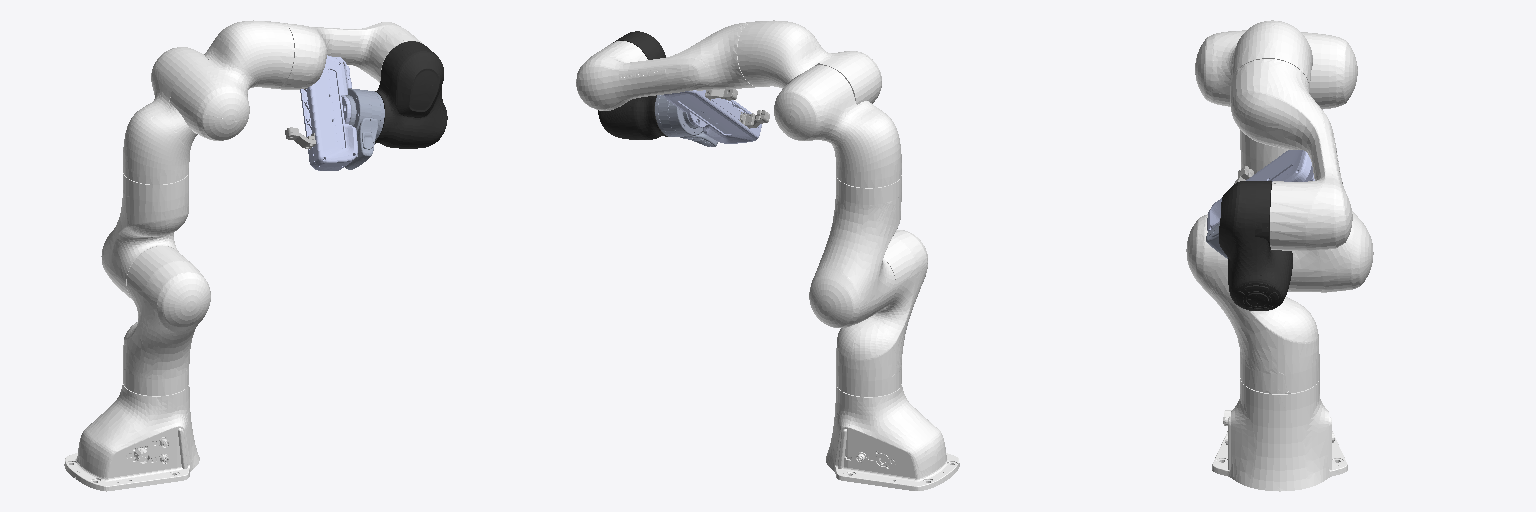
The robot description file, URDF, robot "Franka_Research_3_v2":
<?xml version="1.0" encoding="utf-8"?>
<!-- This URDF was automatically created by SolidWorks to URDF Exporter! Originally created by [author] ([email redacted]) 
     Commit Version: 1.6.0-4-g7f85cfe  Build Version: 1.6.7995.38578
     For more information, please see http://wiki.ros.org/sw_urdf_exporter -->
<robot
  name="Franka_Research_3_v2">
  <link
    name="franka_robot">
    <inertial>
      <origin
        xyz="-0.0257215075963844 -0.000140726343923872 0.0583238301229975"
        rpy="0 0 0" />
      <mass
        value="2.53458537093423" />
      <inertia
        ixx="0.00669301731863591"
        ixy="-1.22000775551122E-05"
        ixz="-0.00112343988960679"
        iyy="0.00948254598749087"
        iyz="-3.09365040647767E-06"
        izz="0.00886795022977279" />
    </inertial>
    <visual>
      <origin
        xyz="0 0 0"
        rpy="0 0 0" />
      <geometry>
        <mesh
          filename="package://Franka_Research_3_v2/meshes/franka_robot.STL" />
      </geometry>
      <material
        name="">
        <color
          rgba="1 1 1 1" />
      </material>
    </visual>
    <collision>
      <origin
        xyz="0 0 0"
        rpy="0 0 0" />
      <geometry>
        <mesh
          filename="package://Franka_Research_3_v2/meshes/franka_robot.STL" />
      </geometry>
    </collision>
  </link>
  <link
    name="Link_Shoulder_01">
    <inertial>
      <origin
        xyz="-0.00213456226793228 -0.034551608748078 -0.0672460472161224"
        rpy="0 0 0" />
      <mass
        value="2.41043967630229" />
      <inertia
        ixx="0.0156403919190568"
        ixy="-0.000124926150924449"
        ixz="0.000251312691144325"
        iyy="0.0136252179718"
        iyz="0.00407058837657766"
        izz="0.00564872640101832" />
    </inertial>
    <visual>
      <origin
        xyz="0 0 0"
        rpy="0 0 0" />
      <geometry>
        <mesh
          filename="package://Franka_Research_3_v2/meshes/Link_Shoulder_01.STL" />
      </geometry>
      <material
        name="">
        <color
          rgba="1 1 1 1" />
      </material>
    </visual>
    <collision>
      <origin
        xyz="0 0 0"
        rpy="0 0 0" />
      <geometry>
        <mesh
          filename="package://Franka_Research_3_v2/meshes/Link_Shoulder_01.STL" />
      </geometry>
    </collision>
  </link>
  <joint
    name="Joint_Shoulder_01"
    type="revolute">
    <origin
      xyz="3.06592108877928E-05 0.000499059153678049 0.333026749986188"
      rpy="0 0 0" />
    <parent
      link="franka_robot" />
    <child
      link="Link_Shoulder_01" />
    <axis
      xyz="0 0 1" />
    <limit
      lower="-2.7437"
      upper="2.7437"
      effort="87"
      velocity="2.62" />
  </joint>
  <link
    name="Link_Shoulder_02">
    <inertial>
      <origin
        xyz="-7.76978644131825E-07 -0.0671934024602159 0.0336172930461478"
        rpy="0 0 0" />
      <mass
        value="2.41042875187917" />
      <inertia
        ixx="0.0156480403431639"
        ixy="5.93588832007721E-08"
        ixz="2.00794547013372E-08"
        iyy="0.0056485167121666"
        iyz="-0.00407825103259544"
        izz="0.01361751833654" />
    </inertial>
    <visual>
      <origin
        xyz="0 0 0"
        rpy="0 0 0" />
      <geometry>
        <mesh
          filename="package://Franka_Research_3_v2/meshes/Link_Shoulder_02.STL" />
      </geometry>
      <material
        name="">
        <color
          rgba="1 1 1 1" />
      </material>
    </visual>
    <collision>
      <origin
        xyz="0 0 0"
        rpy="0 0 0" />
      <geometry>
        <mesh
          filename="package://Franka_Research_3_v2/meshes/Link_Shoulder_02.STL" />
      </geometry>
    </collision>
  </link>
  <joint
    name="Joint_Shoulder_02"
    type="revolute">
    <origin
      xyz="0 0 0"
      rpy="-1.5707963267949 0 -0.0616799645376402" />
    <parent
      link="Link_Shoulder_01" />
    <child
      link="Link_Shoulder_02" />
    <axis
      xyz="0 0 1" />
    <limit
      lower="-1.7628"
      upper="1.7628"
      effort="87"
      velocity="2.175" />
  </joint>
  <link
    name="Link_Elbow_01">
    <inertial>
      <origin
        xyz="0.0430617745811152 0.0215720194524131 -0.0376665077690033"
        rpy="0 0 0" />
      <mass
        value="1.86279072124258" />
      <inertia
        ixx="0.00627677607553943"
        ixy="-0.00168412788952977"
        ixz="-0.00281221883685812"
        iyy="0.00826459154945619"
        iyz="-0.00148555411729514"
        izz="0.0067854028208688" />
    </inertial>
    <visual>
      <origin
        xyz="0 0 0"
        rpy="0 0 0" />
      <geometry>
        <mesh
          filename="package://Franka_Research_3_v2/meshes/Link_Elbow_01.STL" />
      </geometry>
      <material
        name="">
        <color
          rgba="1 1 1 1" />
      </material>
    </visual>
    <collision>
      <origin
        xyz="0 0 0"
        rpy="0 0 0" />
      <geometry>
        <mesh
          filename="package://Franka_Research_3_v2/meshes/Link_Elbow_01.STL" />
      </geometry>
    </collision>
  </link>
  <joint
    name="Joint_Elbow_01"
    type="revolute">
    <origin
      xyz="0 -0.315973250013811 -0.000499999999999836"
      rpy="1.5707963267949 -0.0616799645376402 0" />
    <parent
      link="Link_Shoulder_02" />
    <child
      link="Link_Elbow_01" />
    <axis
      xyz="0 0 1" />
    <limit
      lower="-2.8773"
      upper="2.8973"
      effort="87"
      velocity="2.175" />
  </joint>
  <link
    name="Link_Elbow_02">
    <inertial>
      <origin
        xyz="-0.0399753149075977 0.0369924602760736 0.0236477759050669"
        rpy="0 0 0" />
      <mass
        value="1.86279180923057" />
      <inertia
        ixx="0.00648839657481814"
        ixy="0.00271678512830317"
        ixz="-0.00179223174709489"
        iyy="0.00678535025205209"
        iyz="0.001653647302724"
        izz="0.00805305605996542" />
    </inertial>
    <visual>
      <origin
        xyz="0 0 0"
        rpy="0 0 0" />
      <geometry>
        <mesh
          filename="package://Franka_Research_3_v2/meshes/Link_Elbow_02.STL" />
      </geometry>
      <material
        name="">
        <color
          rgba="1 1 1 1" />
      </material>
    </visual>
    <collision>
      <origin
        xyz="0 0 0"
        rpy="0 0 0" />
      <geometry>
        <mesh
          filename="package://Franka_Research_3_v2/meshes/Link_Elbow_02.STL" />
      </geometry>
    </collision>
  </link>
  <joint
    name="Joint_Elbow_02"
    type="revolute">
    <origin
      xyz="0.0814658403118995 -0.00545839932838597 0.000577795911384626"
      rpy="1.5707963267949 0 -0.0607784629425817" />
    <parent
      link="Link_Elbow_01" />
    <child
      link="Link_Elbow_02" />
    <axis
      xyz="0 0 1" />
    <limit
      lower="-3.7018"
      upper="-0.0698"
      effort="87"
      velocity="2.175" />
  </joint>
  <link
    name="Link_LowerArm">
    <inertial>
      <origin
        xyz="0.00269121920375588 0.0442070697587743 0.144377235739644"
        rpy="0 0 0" />
      <mass
        value="1.83354626284484" />
      <inertia
        ixx="0.0226301419731429"
        ixy="-0.000134904717080184"
        ixz="-0.000313065737744122"
        iyy="0.020420965739829"
        iyz="-0.00514202280981198"
        izz="0.00424876212898234" />
    </inertial>
    <visual>
      <origin
        xyz="0 0 0"
        rpy="0 0 0" />
      <geometry>
        <mesh
          filename="package://Franka_Research_3_v2/meshes/Link_LowerArm.STL" />
      </geometry>
      <material
        name="">
        <color
          rgba="1 1 1 1" />
      </material>
    </visual>
    <collision>
      <origin
        xyz="0 0 0"
        rpy="0 0 0" />
      <geometry>
        <mesh
          filename="package://Franka_Research_3_v2/meshes/Link_LowerArm.STL" />
      </geometry>
    </collision>
  </link>
  <joint
    name="Joint_LowerArm"
    type="revolute">
    <origin
      xyz="-0.081647 0.12333 -0.0005"
      rpy="-1.5708 0.060778 0" />
    <parent
      link="Link_Elbow_02" />
    <child
      link="Link_LowerArm" />
    <axis
      xyz="0 0 1" />
    <limit
      lower="-2.8973"
      upper="2.8973"
      effort="12"
      velocity="2.61" />
  </joint>
  <link
    name="Link_Wrist">
    <inertial>
      <origin
        xyz="0.0530701887914911 0.00783478752948952 0.0233041901801408"
        rpy="0 0 0" />
      <mass
        value="1.25259326567008" />
      <inertia
        ixx="0.00185484822788914"
        ixy="-0.000202844101010342"
        ixz="0.00034775689350562"
        iyy="0.00322316181137426"
        iyz="5.05843935796239E-05"
        izz="0.00387305644623726" />
    </inertial>
    <visual>
      <origin
        xyz="0 0 0"
        rpy="0 0 0" />
      <geometry>
        <mesh
          filename="package://Franka_Research_3_v2/meshes/Link_Wrist.STL" />
      </geometry>
      <material
        name="">
        <color
          rgba="0.250980392156863 0.250980392156863 0.250980392156863 1" />
      </material>
    </visual>
    <collision>
      <origin
        xyz="0 0 0"
        rpy="0 0 0" />
      <geometry>
        <mesh
          filename="package://Franka_Research_3_v2/meshes/Link_Wrist.STL" />
      </geometry>
    </collision>
  </link>
  <joint
    name="Joint_Wrist"
    type="revolute">
    <origin
      xyz="0.00099621396697373 0.0163707165002706 0.259999999999999"
      rpy="1.5707963267949 0 -0.0607784629426199" />
    <parent
      link="Link_LowerArm" />
    <child
      link="Link_Wrist" />
    <axis
      xyz="0 0 1" />
    <limit
      lower="-0.0175"
      upper="3.7525"
      effort="12"
      velocity="2.61" />
  </joint>
  <link
    name="Link_Flange">
    <inertial>
      <origin
        xyz="0.00875564624725481 0.00973370624018816 0.0770180925982042"
        rpy="0 0 0" />
      <mass
        value="0.389527474650977" />
      <inertia
        ixx="0.000241895063873003"
        ixy="8.629753878676E-06"
        ixz="-3.23695561897715E-06"
        iyy="0.000245054907487076"
        iyz="-2.31057870248988E-06"
        izz="0.000344781186987904" />
    </inertial>
    <visual>
      <origin
        xyz="0 0 0"
        rpy="0 0 0" />
      <geometry>
        <mesh
          filename="package://Franka_Research_3_v2/meshes/Link_Flange.STL" />
      </geometry>
      <material
        name="">
        <color
          rgba="0.666666666666667 0.698039215686274 0.768627450980392 1" />
      </material>
    </visual>
    <collision>
      <origin
        xyz="0 0 0"
        rpy="0 0 0" />
      <geometry>
        <mesh
          filename="package://Franka_Research_3_v2/meshes/Link_Flange.STL" />
      </geometry>
    </collision>
  </link>
  <joint
    name="Joint_Flange"
    type="revolute">
    <origin
      xyz="0.0880000000002042 0 0.0164009999999996"
      rpy="1.57023251536482 0.0607785807758702 0.000207070956475231" />
    <parent
      link="Link_Wrist" />
    <child
      link="Link_Flange" />
    <axis
      xyz="-0.000206688608965628 -0.000576389117777791 0.999999812527684" />
    <limit
      lower="-2.8973"
      upper="2.8973"
      effort="12"
      velocity="2.61" />
  </joint>
  <link
    name="Link_Franka_Hand">
    <inertial>
      <origin
        xyz="5.5588571822085E-05 3.05097672357937E-05 0.133857133044191"
        rpy="0 0 0" />
      <mass
        value="0.387415632872849" />
      <inertia
        ixx="0.000814429690164796"
        ixy="-0.000561966918697256"
        ixz="-1.06591272506502E-06"
        iyy="0.000677405014202969"
        iyz="-9.82493033357866E-07"
        izz="0.00122386134841469" />
    </inertial>
    <visual>
      <origin
        xyz="0 0 0"
        rpy="0 0 0" />
      <geometry>
        <mesh
          filename="package://Franka_Research_3_v2/meshes/Link_Franka_Hand.STL" />
      </geometry>
      <material
        name="">
        <color
          rgba="0.792156862745098 0.819607843137255 0.933333333333333 1" />
      </material>
    </visual>
    <collision>
      <origin
        xyz="0 0 0"
        rpy="0 0 0" />
      <geometry>
        <mesh
          filename="package://Franka_Research_3_v2/meshes/Link_Franka_Hand.STL" />
      </geometry>
    </collision>
  </link>
  <joint
    name="Joint_Franka_Hand"
    type="continuous">
    <origin
      xyz="0 0 0"
      rpy="0 0 0" />
    <parent
      link="Link_Flange" />
    <child
      link="Link_Franka_Hand" />
    <axis
      xyz="-0.000206688608965628 -0.000576389117777791 0.999999812527684" />
  </joint>
  <link
    name="Link_Fingure_Left">
    <inertial>
      <origin
        xyz="2.28843882038587E-09 0.022790700376514 0.000411043909188502"
        rpy="0 0 0" />
      <mass
        value="0.0111449902979934" />
      <inertia
        ixx="3.45731556182926E-06"
        ixy="-4.36186685075585E-12"
        ixz="-6.69397681903771E-13"
        iyy="8.2600759496805E-07"
        iyz="-6.68075927566345E-07"
        izz="3.34830799012147E-06" />
    </inertial>
    <visual>
      <origin
        xyz="0 0 0"
        rpy="0 0 0" />
      <geometry>
        <mesh
          filename="package://Franka_Research_3_v2/meshes/Link_Fingure_Left.STL" />
      </geometry>
      <material
        name="">
        <color
          rgba="0.752941176470588 0.752941176470588 0.752941176470588 1" />
      </material>
    </visual>
    <collision>
      <origin
        xyz="0 0 0"
        rpy="0 0 0" />
      <geometry>
        <mesh
          filename="package://Franka_Research_3_v2/meshes/Link_Fingure_Left.STL" />
      </geometry>
    </collision>
  </link>
  <joint
    name="Joint_Fingure_Left"
    type="prismatic">
    <origin
      xyz="0.036257 0.040898 0.16563"
      rpy="1.5714 0.00022731 -0.72463" />
    <parent
      link="Link_Franka_Hand" />
    <child
      link="Link_Fingure_Left" />
    <axis
      xyz="0 0 -1" />
    <limit
      lower="-0.03925"
      upper="0"
      effort="70"
      velocity="0.05" />
  </joint>
  <link
    name="Link_Fingure_Right">
    <inertial>
      <origin
        xyz="-2.2891900319788E-09 -0.0227907003764137 0.000411043907521867"
        rpy="0 0 0" />
      <mass
        value="0.0111449902979933" />
      <inertia
        ixx="3.45731556182919E-06"
        ixy="-4.36186838491798E-12"
        ixz="6.69398066252169E-13"
        iyy="8.26007594968853E-07"
        iyz="6.68075927567864E-07"
        izz="3.3483079901206E-06" />
    </inertial>
    <visual>
      <origin
        xyz="0 0 0"
        rpy="0 0 0" />
      <geometry>
        <mesh
          filename="package://Franka_Research_3_v2/meshes/Link_Fingure_Right.STL" />
      </geometry>
      <material
        name="">
        <color
          rgba="0.752941176470588 0.752941176470588 0.752941176470588 1" />
      </material>
    </visual>
    <collision>
      <origin
        xyz="0 0 0"
        rpy="0 0 0" />
      <geometry>
        <mesh
          filename="package://Franka_Research_3_v2/meshes/Link_Fingure_Right.STL" />
      </geometry>
    </collision>
  </link>
  <joint
    name="Joint_Fingure_Right"
    type="prismatic">
    <origin
      xyz="-0.036326 -0.04109 0.16557"
      rpy="-1.5702 0.00022731 -0.72463" />
    <parent
      link="Link_Franka_Hand" />
    <child
      link="Link_Fingure_Right" />
    <axis
      xyz="0 0 1" />
    <limit
      lower="0"
      upper="0.03925"
      effort="70"
      velocity="0.05" />
  </joint>
  <link
    name="Linke_case_link6">
    <inertial>
      <origin
        xyz="0.0329198076562982 0.00335174953519579 -0.0464803910079026"
        rpy="0 0 0" />
      <mass
        value="1.76563334262464" />
      <inertia
        ixx="0.00296968819779444"
        ixy="-0.000180017586275914"
        ixz="0.000309100156827901"
        iyy="0.00413541874169722"
        iyz="4.95975871867181E-05"
        izz="0.00532687510143534" />
    </inertial>
    <visual>
      <origin
        xyz="0 0 0"
        rpy="0 0 0" />
      <geometry>
        <mesh
          filename="package://Franka_Research_3_v2/meshes/Linke_case_link6.STL" />
      </geometry>
      <material
        name="">
        <color
          rgba="0.752941176470588 0.752941176470588 0.752941176470588 1" />
      </material>
    </visual>
    <collision>
      <origin
        xyz="0 0 0"
        rpy="0 0 0" />
      <geometry>
        <mesh
          filename="package://Franka_Research_3_v2/meshes/Linke_case_link6.STL" />
      </geometry>
    </collision>
  </link>
  <joint
    name="Joint_case_link6"
    type="fixed">
    <origin
      xyz="0.0194999999978656 0.00305 0.075862974422799"
      rpy="0 0 0" />
    <parent
      link="Link_Wrist" />
    <child
      link="Linke_case_link6" />
    <axis
      xyz="0 1 0" />
  </joint>
</robot>

--- What the picture shows (computed from the rendered views, not written in the file) ---
The picture shows the robot from 3 angles, left to right: view 1: azimuth 30°, elevation 25°; view 2: azimuth 150°, elevation 25°; view 3: azimuth 270°, elevation 25°; orthographic projection.
Model Franka_Research_3_v2 with 12 links and 11 joints (7 revolute, 1 continuous, 2 prismatic, 1 fixed), rooted at franka_robot, posed joints at zero except 1 at the middle of their limits (Joint_Elbow_02 = -1.89).
Links seen in each view (by area): view 1: franka_robot, Link_Shoulder_01, Link_Elbow_02, Link_Elbow_01, Link_Wrist, Link_Shoulder_02, Link_LowerArm, Link_Franka_Hand, Link_Flange; view 2: franka_robot, Link_Shoulder_02, Link_Elbow_01, Link_LowerArm, Link_Shoulder_01, Link_Elbow_02, Link_Franka_Hand, Link_Wrist, Link_Flange; view 3: Link_LowerArm, franka_robot, Link_Shoulder_01, Link_Wrist, Link_Elbow_02, Link_Shoulder_02, Link_Elbow_01, Link_Franka_Hand.
Link boxes in pixels (box(x1,y1,x2,y2)): franka_robot: box(64, 384, 199, 491); Link_Shoulder_01: box(123, 246, 210, 395); Link_Elbow_02: box(170, 20, 294, 140); Link_Elbow_01: box(123, 47, 210, 184); Link_Wrist: box(375, 41, 447, 148); Link_Shoulder_02: box(101, 173, 188, 297); Link_LowerArm: box(276, 22, 422, 89); Link_Franka_Hand: box(300, 55, 357, 170); Link_Flange: box(345, 88, 384, 169); franka_robot: box(826, 384, 959, 490); Link_Shoulder_02: box(809, 175, 901, 327); Link_Elbow_01: box(774, 65, 901, 187); Link_LowerArm: box(576, 22, 754, 110); Link_Shoulder_01: box(836, 230, 927, 396); Link_Elbow_02: box(737, 20, 881, 104); Link_Franka_Hand: box(663, 90, 761, 143); Link_Wrist: box(598, 31, 667, 139); Link_Flange: box(655, 95, 717, 146); Link_LowerArm: box(1230, 59, 1352, 250); franka_robot: box(1212, 378, 1347, 491); Link_Shoulder_01: box(1186, 214, 1319, 393); Link_Wrist: box(1219, 181, 1292, 310); Link_Elbow_02: box(1195, 20, 1312, 106); Link_Shoulder_02: box(1240, 130, 1373, 292); Link_Elbow_01: box(1301, 32, 1357, 109); Link_Franka_Hand: box(1207, 150, 1314, 231).
Size in the robot's own frame: 0.6838 by 0.2595 by 0.7583 metres.
Meshes: 12 distinct files referenced, 11 mesh visuals loaded (11 binary STL); not drawn: 1 (reference not matched to a file when rendering).